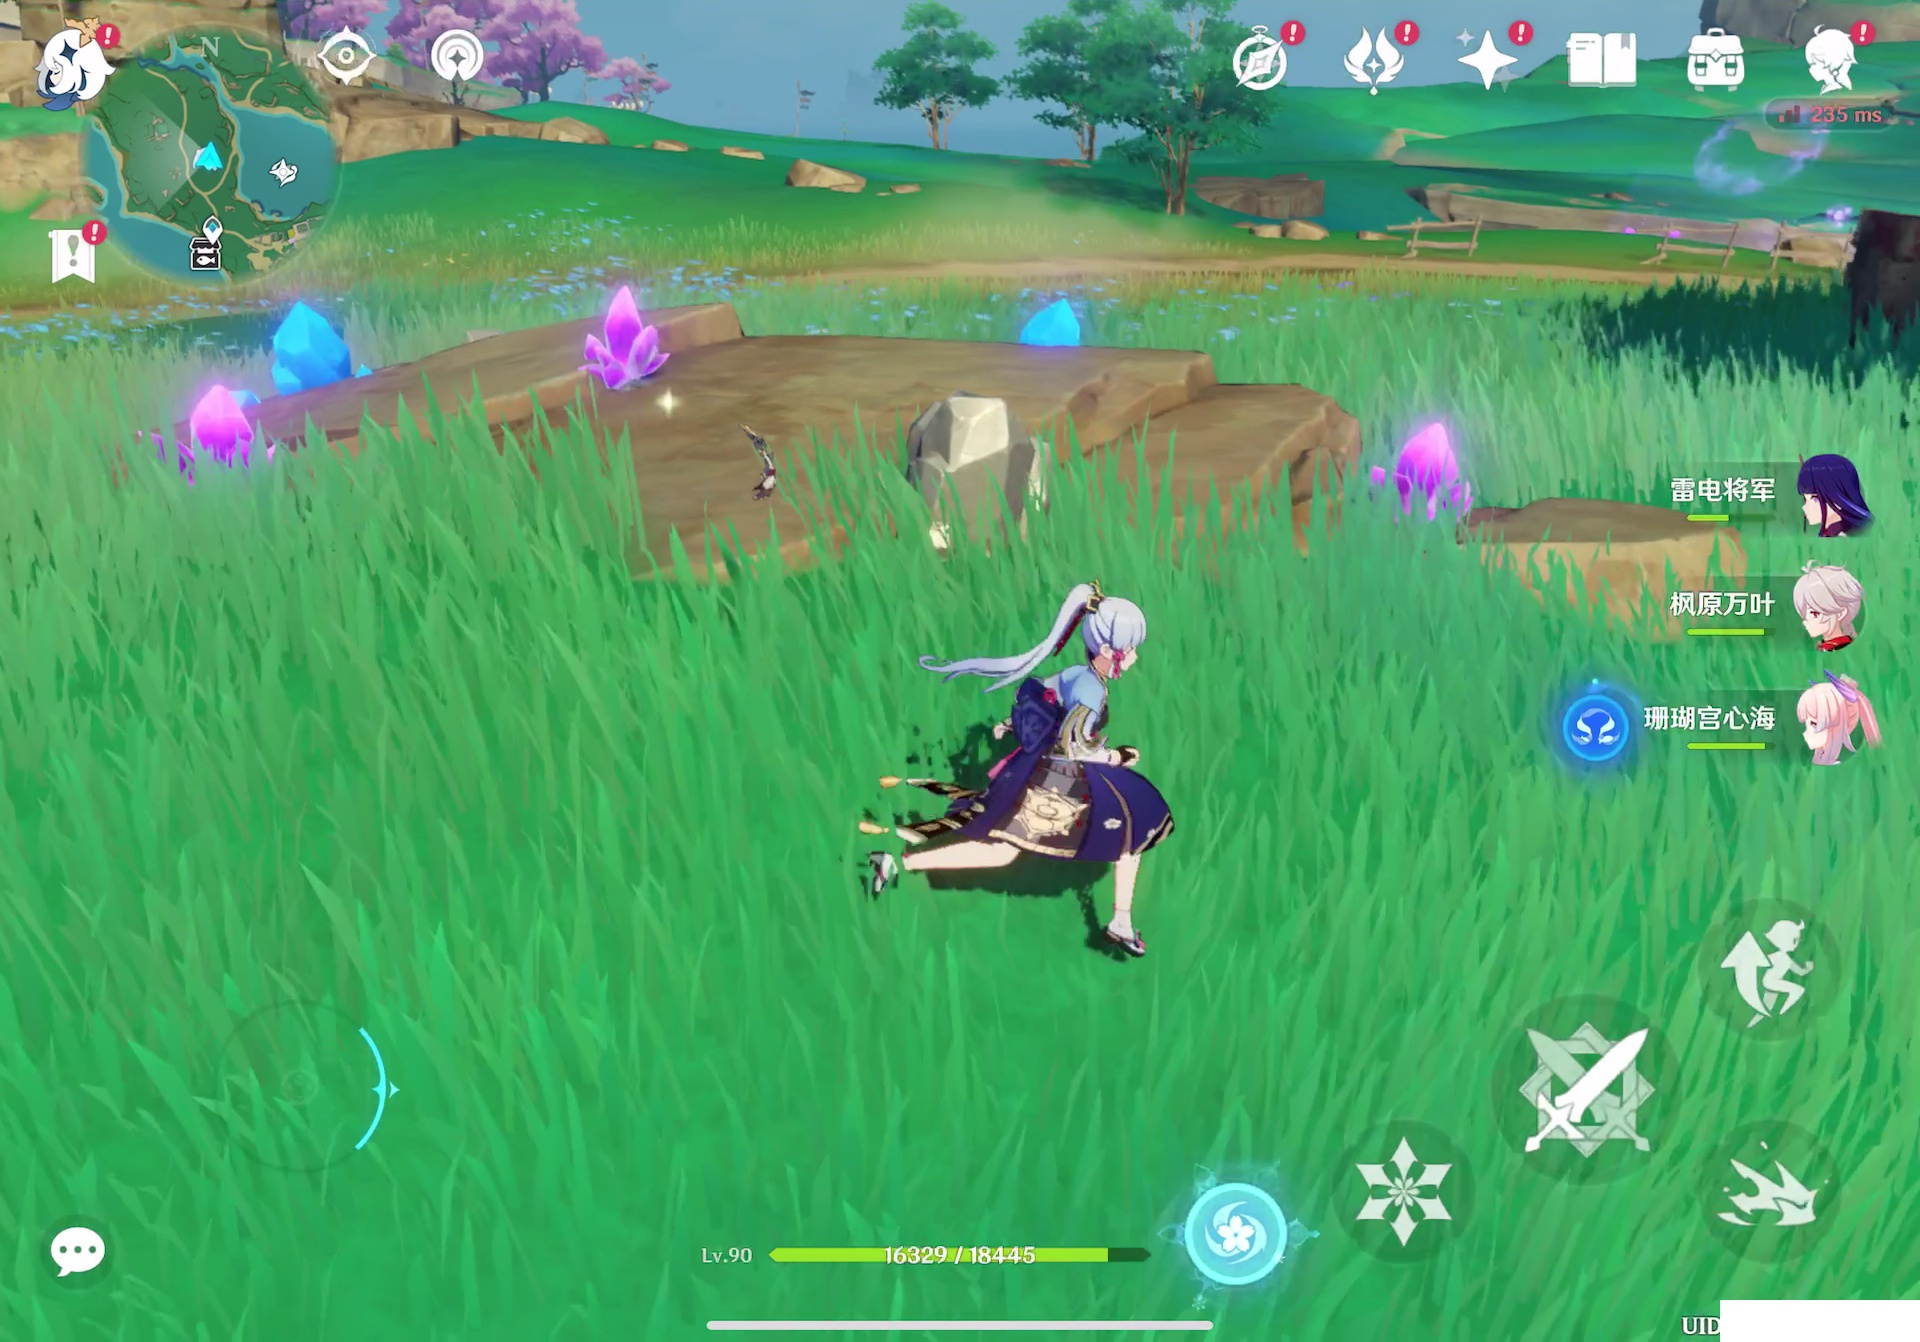白铁矿石: (889, 392, 1045, 553)
神里绫龟: (906, 579, 1157, 977)
紫矿石: (578, 290, 676, 408), (160, 387, 268, 489), (1374, 420, 1471, 524)
蓝矿石: (260, 300, 373, 406), (1011, 296, 1088, 353)
